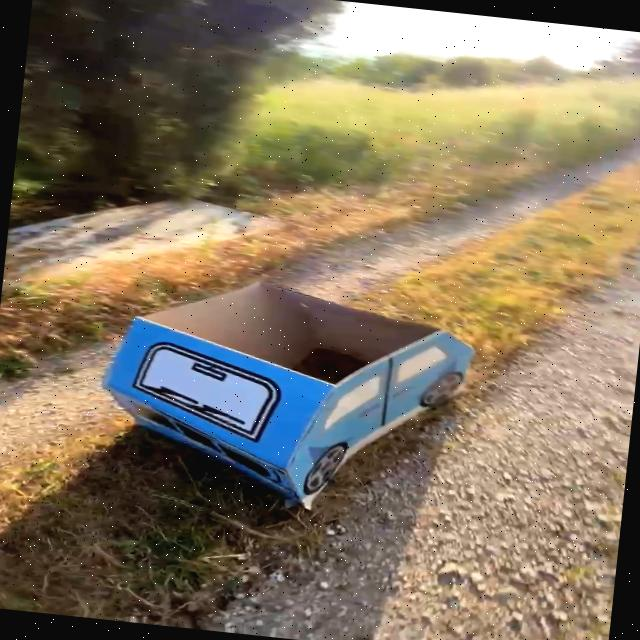blue_car: (67, 243, 515, 542)
